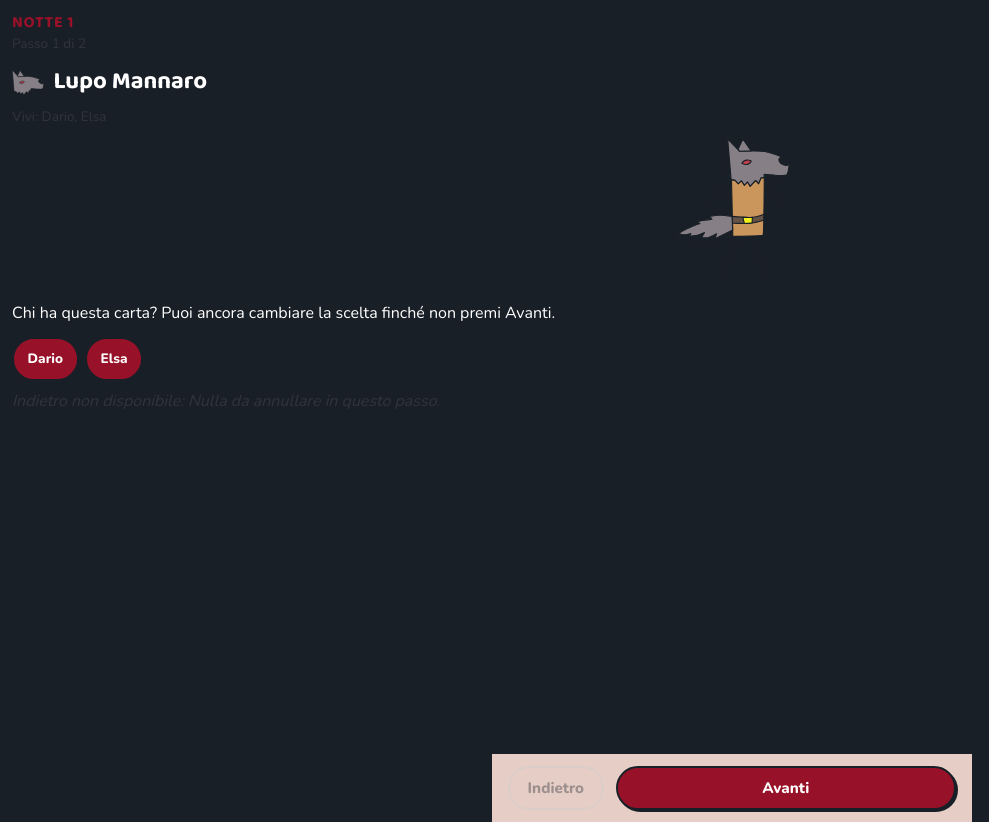
it: "Branco dei Lupi" (dove il branco si riconosce e sceglie la vittima insieme) non mostra mai chip per riassegnare l'identità: ogni Lupo Mannaro è già stato asseg
What coordinates should you click on to do the following:
click the button "Avanti"
I would click on:
 (786, 788)
Its box is [616,766,956,810].
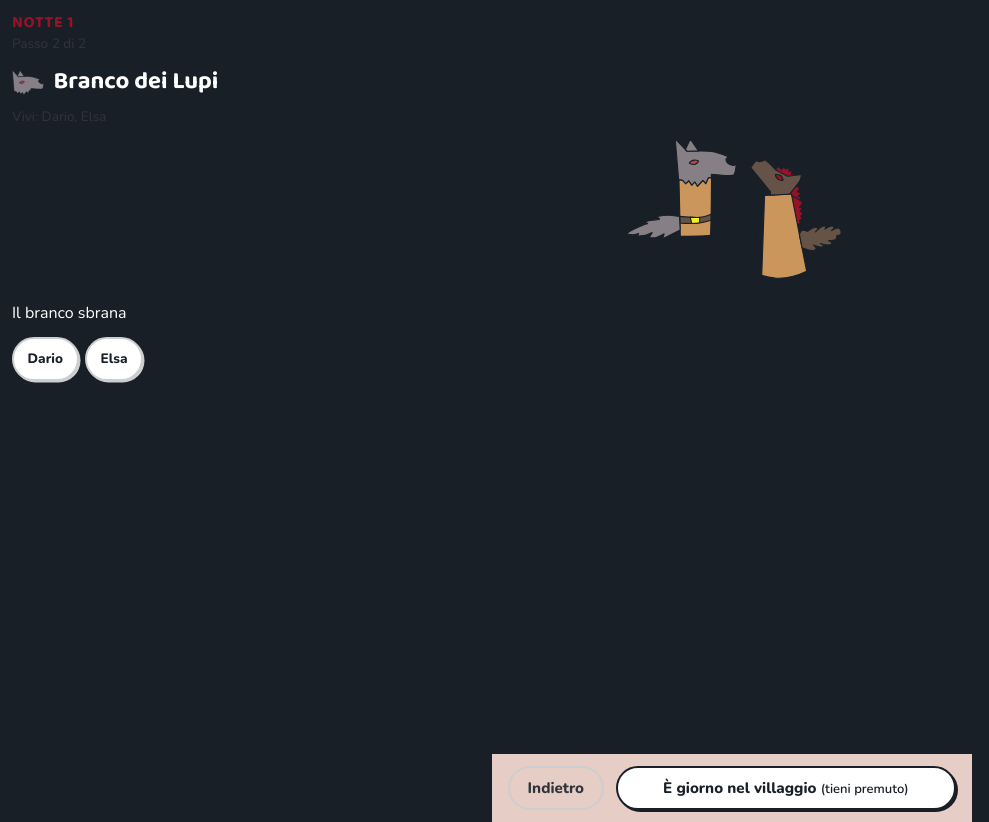
Expected: the heading "Branco dei Lupi" is shown, [12,62,218,101]
Expected: the text "Chi ha questa carta" is gone
Expected: the element named "Il branco sbrana" is shown, [12,337,143,381]
